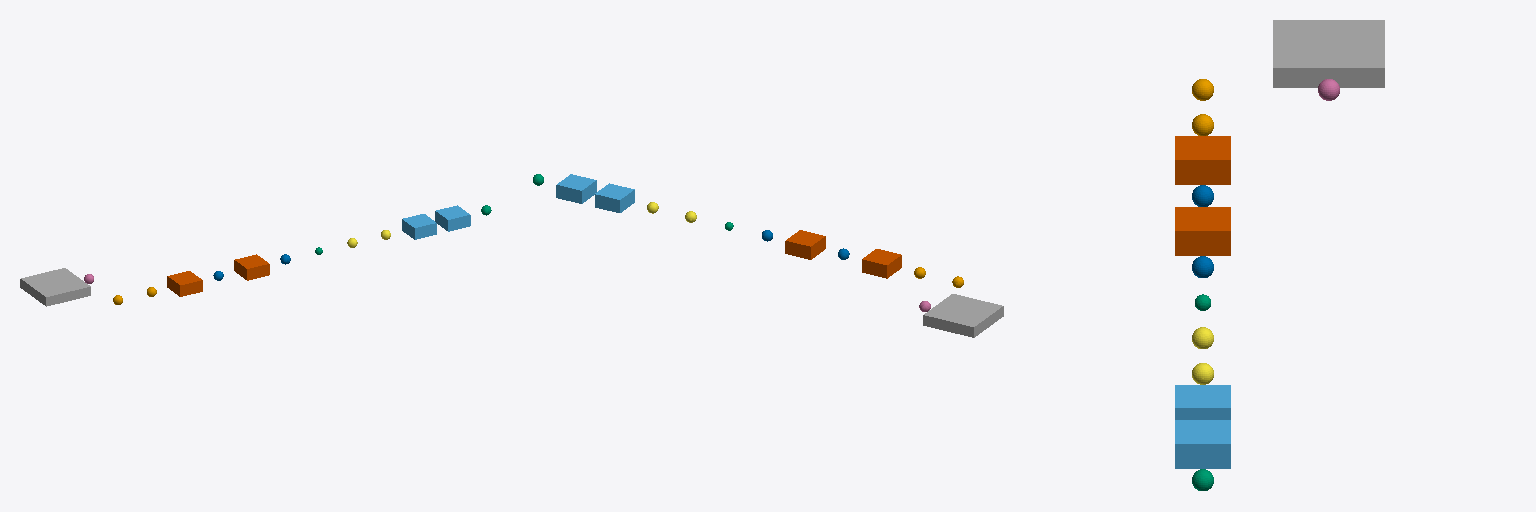
URDF robot description (wire_activated_inserting_and_transporting_apparatus):
<?xml version="1.0" ?>
<robot name="wire_activated_inserting_and_transporting_apparatus">
  <link name="aligning_means">
    <visual>
      <geometry>
        <sphere radius="0.008"/>
      </geometry>
    </visual>
  </link>
  <link name="color_coded_positions">
    <visual>
      <geometry>
        <box size="0.04 0.04 0.02"/>
      </geometry>
    </visual>
  </link>
  <link name="connector_locating_means">
    <visual>
      <geometry>
        <sphere radius="0.008"/>
      </geometry>
    </visual>
  </link>
  <link name="control_means">
    <visual>
      <geometry>
        <sphere radius="0.008"/>
      </geometry>
    </visual>
  </link>
  <link name="drive_mechanism">
    <visual>
      <geometry>
        <sphere radius="0.008"/>
      </geometry>
    </visual>
  </link>
  <link name="electrical_connector_half">
    <visual>
      <geometry>
        <box size="0.04 0.04 0.02"/>
      </geometry>
    </visual>
  </link>
  <link name="escapement_mechanism">
    <visual>
      <geometry>
        <sphere radius="0.008"/>
      </geometry>
    </visual>
  </link>
  <link name="frame">
    <visual>
      <geometry>
        <box size="0.08 0.08 0.016"/>
      </geometry>
    </visual>
  </link>
  <link name="inserting_mechanism">
    <visual>
      <geometry>
        <sphere radius="0.008"/>
      </geometry>
    </visual>
  </link>
  <link name="rows_of_contacts">
    <visual>
      <geometry>
        <box size="0.04 0.04 0.02"/>
      </geometry>
    </visual>
  </link>
  <link name="sensor">
    <visual>
      <geometry>
        <sphere radius="0.006"/>
      </geometry>
    </visual>
  </link>
  <link name="transferring_mechanism">
    <visual>
      <geometry>
        <sphere radius="0.008"/>
      </geometry>
    </visual>
  </link>
  <link name="transporting_mechanism">
    <visual>
      <geometry>
        <sphere radius="0.008"/>
      </geometry>
    </visual>
  </link>
  <link name="wire_array">
    <visual>
      <geometry>
        <box size="0.04 0.04 0.02"/>
      </geometry>
    </visual>
  </link>
  <joint name="_attach_frame_to_aligning_means" type="fixed">
    <parent link="frame"/>
    <child link="aligning_means"/>
    <origin xyz="0.1200 -0.0900 0.0000" rpy="0 0 0"/>
  </joint>
  <joint name="_attach_frame_to_color_coded_positions" type="fixed">
    <parent link="frame"/>
    <child link="color_coded_positions"/>
    <origin xyz="0.6000 -0.0900 0.0000" rpy="0 0 0"/>
  </joint>
  <joint name="_attach_frame_to_connector_locating_means" type="fixed">
    <parent link="frame"/>
    <child link="connector_locating_means"/>
    <origin xyz="0.7200 -0.0900 0.0000" rpy="0 0 0"/>
  </joint>
  <joint name="_attach_frame_to_control_means" type="fixed">
    <parent link="frame"/>
    <child link="control_means"/>
    <origin xyz="0.4800 -0.0900 0.0000" rpy="0 0 0"/>
  </joint>
  <joint name="_attach_frame_to_drive_mechanism" type="fixed">
    <parent link="frame"/>
    <child link="drive_mechanism"/>
    <origin xyz="0.3600 -0.0900 0.0000" rpy="0 0 0"/>
  </joint>
  <joint name="_attach_frame_to_electrical_connector_half" type="fixed">
    <parent link="frame"/>
    <child link="electrical_connector_half"/>
    <origin xyz="0.1800 -0.0900 0.0000" rpy="0 0 0"/>
  </joint>
  <joint name="_attach_frame_to_escapement_mechanism" type="fixed">
    <parent link="frame"/>
    <child link="escapement_mechanism"/>
    <origin xyz="0.0600 0.0000 0.0000" rpy="0 0 0"/>
  </joint>
  <joint name="_attach_frame_to_inserting_mechanism" type="fixed">
    <parent link="frame"/>
    <child link="inserting_mechanism"/>
    <origin xyz="0.0600 -0.0900 0.0000" rpy="0 0 0"/>
  </joint>
  <joint name="_attach_frame_to_rows_of_contacts" type="fixed">
    <parent link="frame"/>
    <child link="rows_of_contacts"/>
    <origin xyz="0.6600 -0.0900 0.0000" rpy="0 0 0"/>
  </joint>
  <joint name="_attach_frame_to_sensor" type="fixed">
    <parent link="frame"/>
    <child link="sensor"/>
    <origin xyz="0.4200 -0.0900 0.0000" rpy="0 0 0"/>
  </joint>
  <joint name="_attach_frame_to_transferring_mechanism" type="fixed">
    <parent link="frame"/>
    <child link="transferring_mechanism"/>
    <origin xyz="0.5400 -0.0900 0.0000" rpy="0 0 0"/>
  </joint>
  <joint name="_attach_frame_to_transporting_mechanism" type="fixed">
    <parent link="frame"/>
    <child link="transporting_mechanism"/>
    <origin xyz="0.2400 -0.0900 0.0000" rpy="0 0 0"/>
  </joint>
  <joint name="_attach_frame_to_wire_array" type="fixed">
    <parent link="frame"/>
    <child link="wire_array"/>
    <origin xyz="0.3000 -0.0900 0.0000" rpy="0 0 0"/>
  </joint>
</robot>

--- What the picture shows (computed from the rendered views, not written in the file) ---
Views: 3 orthographic renders of the robot side by side, from view 1: azimuth 30°, elevation 25°; view 2: azimuth 150°, elevation 25°; view 3: azimuth 270°, elevation 25°.
Model wire_activated_inserting_and_transporting_apparatus with 14 links and 13 joints (13 fixed), rooted at frame, posed all joints at 0.
Visible links, largest first — view 1: frame, electrical_connector_half, rows_of_contacts, wire_array, color_coded_positions; view 2: frame, wire_array, rows_of_contacts, color_coded_positions, electrical_connector_half; view 3: frame, electrical_connector_half, rows_of_contacts, wire_array, color_coded_positions.
Boxes of the visible links, left/top/right/bottom form: frame: left=20, top=268, right=90, bottom=306; electrical_connector_half: left=167, top=271, right=202, bottom=296; rows_of_contacts: left=435, top=205, right=470, bottom=231; wire_array: left=234, top=254, right=269, bottom=280; color_coded_positions: left=402, top=214, right=436, bottom=239; frame: left=923, top=294, right=1003, bottom=337; wire_array: left=785, top=230, right=825, bottom=259; rows_of_contacts: left=556, top=174, right=596, bottom=203; color_coded_positions: left=595, top=183, right=634, bottom=212; electrical_connector_half: left=862, top=249, right=901, bottom=278; frame: left=1273, top=20, right=1384, bottom=87; electrical_connector_half: left=1175, top=136, right=1230, bottom=184; rows_of_contacts: left=1175, top=420, right=1230, bottom=468; wire_array: left=1175, top=207, right=1230, bottom=255; color_coded_positions: left=1175, top=385, right=1230, bottom=419.
Size in the robot's own frame: 0.768 by 0.15 by 0.02 metres.
Geometry: primitives only (box / cylinder / sphere), no mesh files.
